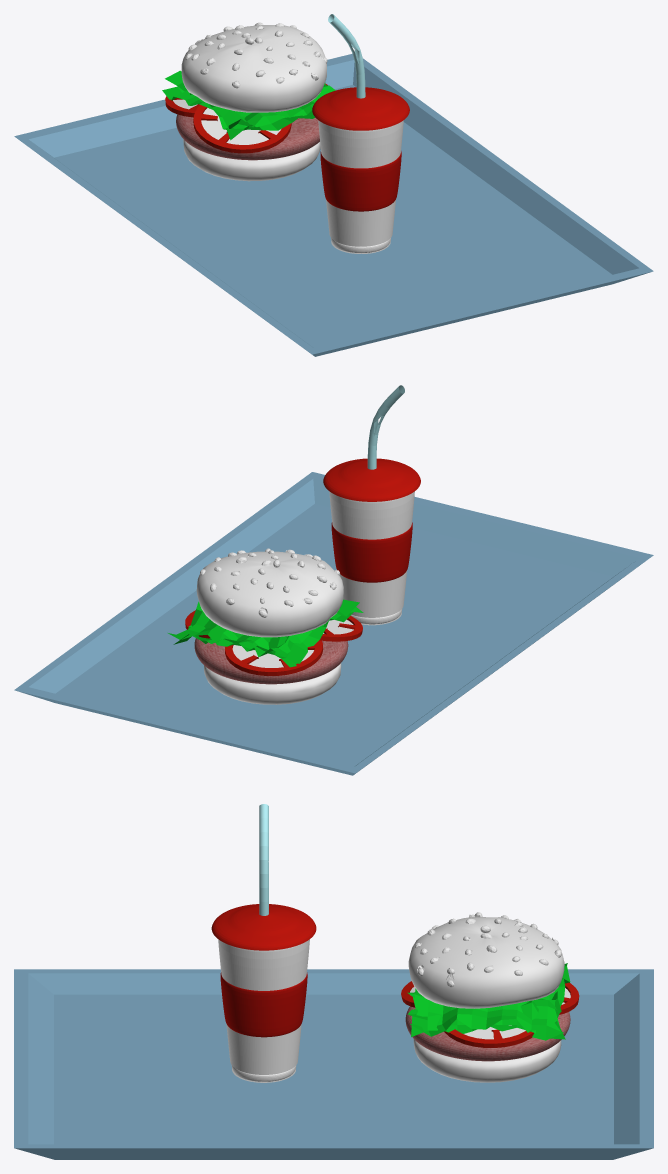
The model's file is Burger .fbx.
3 renders of one model, top to bottom at view 1: azimuth 30°, elevation 25°; view 2: azimuth 150°, elevation 25°; view 3: azimuth 270°, elevation 25°, orthographic. The views are drawn at different scales.
Parts seen in each view (by area): view 1: Tray, Drink, Bun 1, Bun 2, Tomato 1, Lettuce, Ham; view 2: Tray, Drink, Bun 1, Lettuce, Tomato 1, Bun 2, Ham; view 3: Tray, Drink, Bun 1, Lettuce, Bun 2, Ham, Tomato 1.
Boxes of the visible parts, x1,y1,x2,y2 form: Tray: (14,53,653,356); Drink: (312,14,409,253); Bun 1: (181,22,327,112); Bun 2: (183,139,320,181); Tomato 1: (165,83,327,153); Lettuce: (162,70,335,140); Ham: (176,114,319,160); Tray: (14,472,653,775); Drink: (323,385,420,625); Bun 1: (196,548,343,637); Lettuce: (168,599,363,667); Tomato 1: (185,610,362,675); Bun 2: (204,663,341,704); Ham: (194,638,348,684); Tray: (14,969,653,1159); Drink: (211,804,316,1082); Bun 1: (408,912,564,1008); Lettuce: (407,963,570,1040); Bun 2: (413,1039,561,1082); Ham: (405,1006,570,1061); Tomato 1: (401,981,579,1047).
Bounding box in the file's own units: 296 × 201 × 448.
13 materials, 8 textured.
